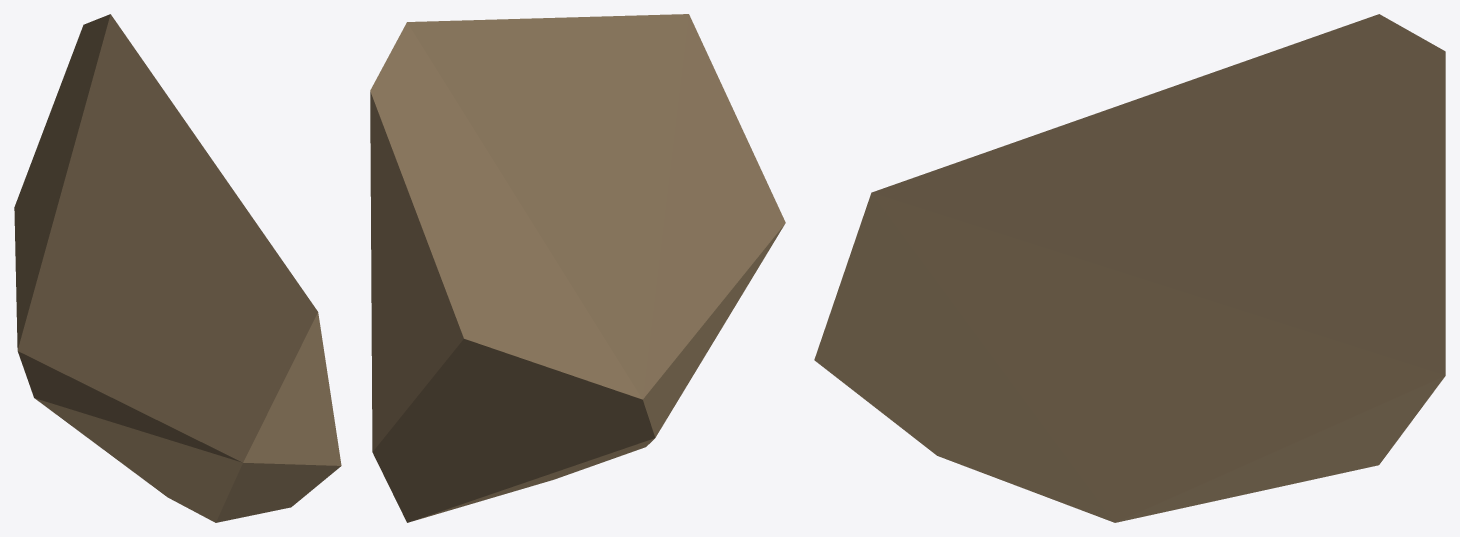
Rendered from Rock03.fbx.
3 views of the same model, side by side, from view 1: azimuth 30°, elevation 25°; view 2: azimuth 150°, elevation 25°; view 3: azimuth 270°, elevation 25° (orthographic). The views are drawn at different scales.
Parts seen in each view (by area): view 1: Rock03; view 2: Rock03; view 3: Rock03.
Part boxes in pixels (<box>): Rock03: <box>14,14,341,522</box>; Rock03: <box>370,14,785,522</box>; Rock03: <box>814,14,1445,522</box>.
Bounding box in the file's own units: 2.63 × 7.85 × 8.82.
